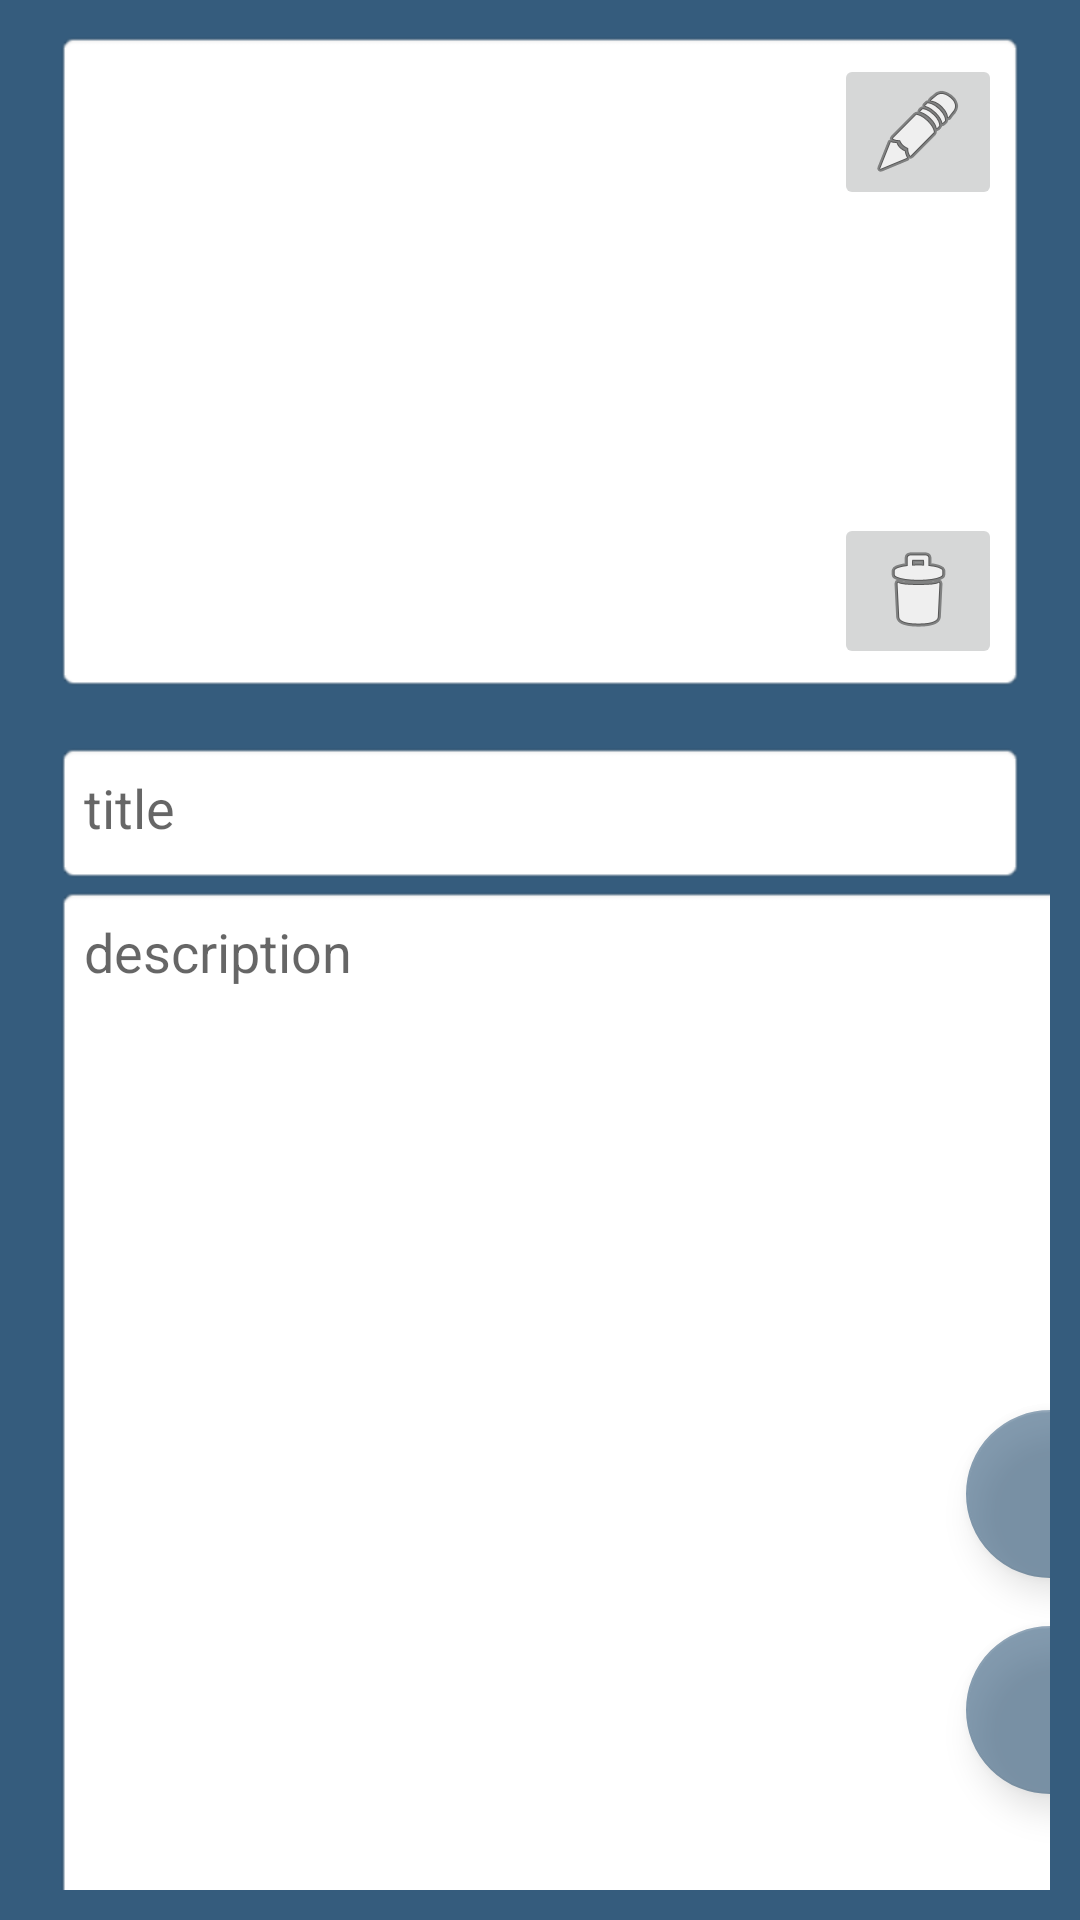

Icons on this 1080px×1920px Android screen, each with its box as {"x1": x1, "y1": y1, "x2": x2, "y2": y2}:
delete: {"x1": 846, "y1": 531, "x2": 990, "y2": 651}
edit: {"x1": 846, "y1": 72, "x2": 990, "y2": 192}
